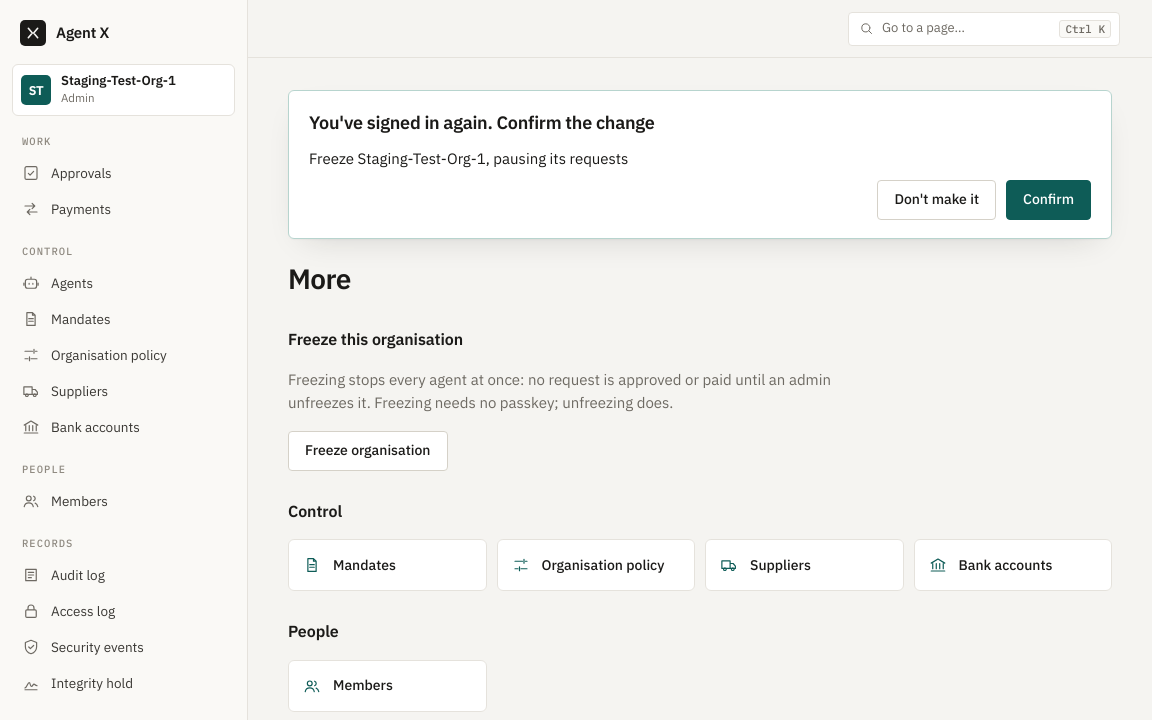
back from a step-up › says a change refused for words changed since they were read, and to ask again to read them (CO3)
The width and height of the screenshot is (1152, 720).
Click the button "Confirm" at (1048, 200), box [1006,180,1091,220]
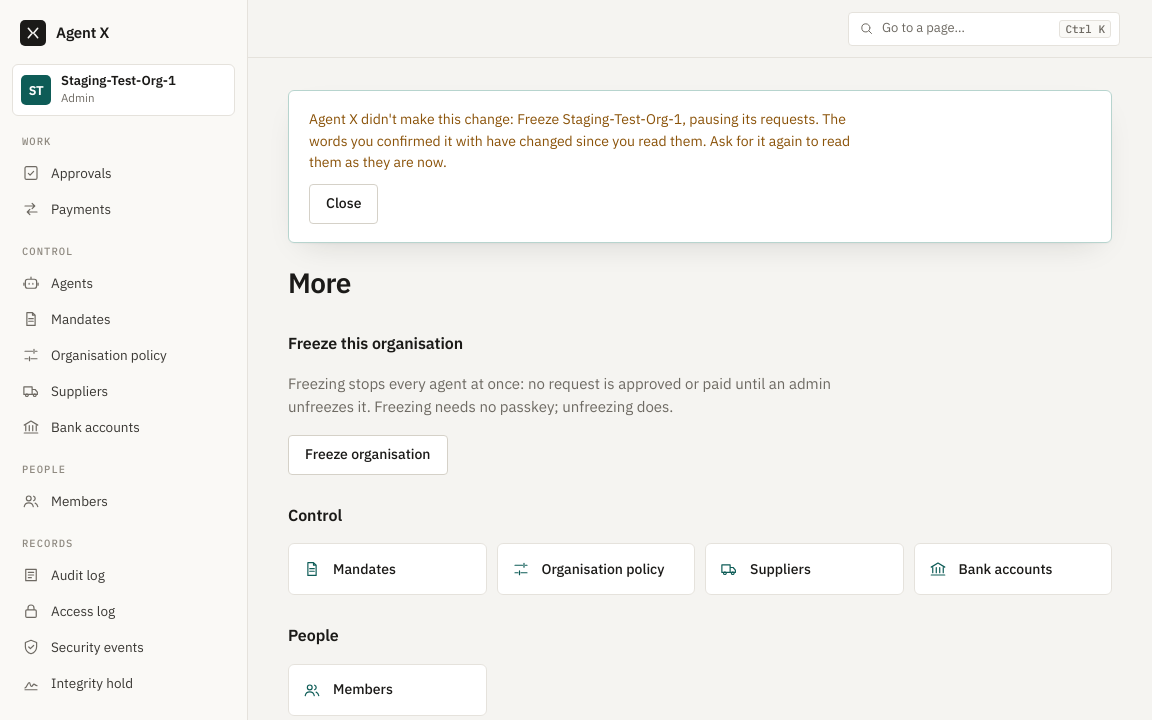
expect the text "Ask for it again to read them as they are now" is shown: met, box [309,110,850,171]
